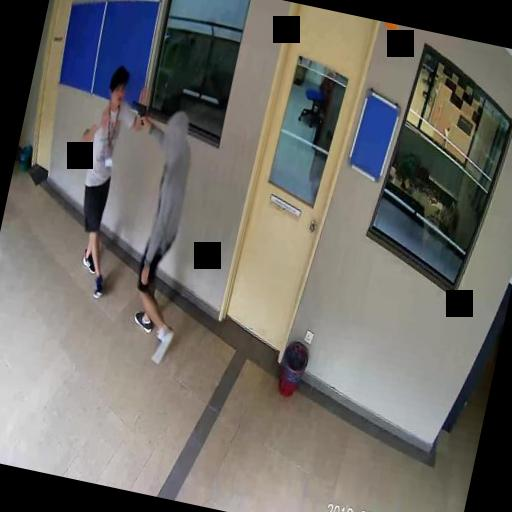Handgun: (126, 98, 148, 122)
